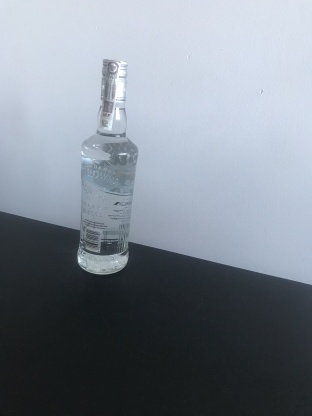nakretka: (98, 54, 129, 104)
